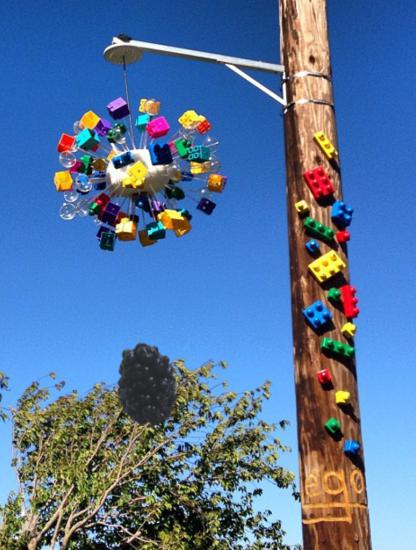Mulberry: (105, 342, 189, 426)
